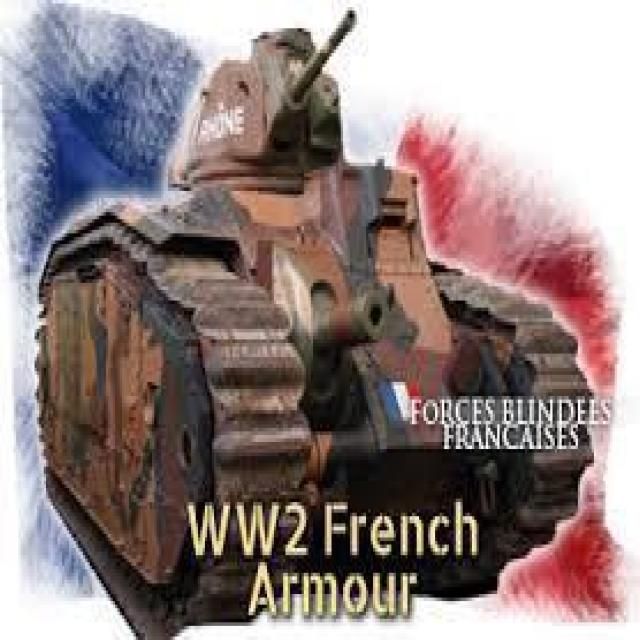Tanks: (20, 12, 598, 617)
